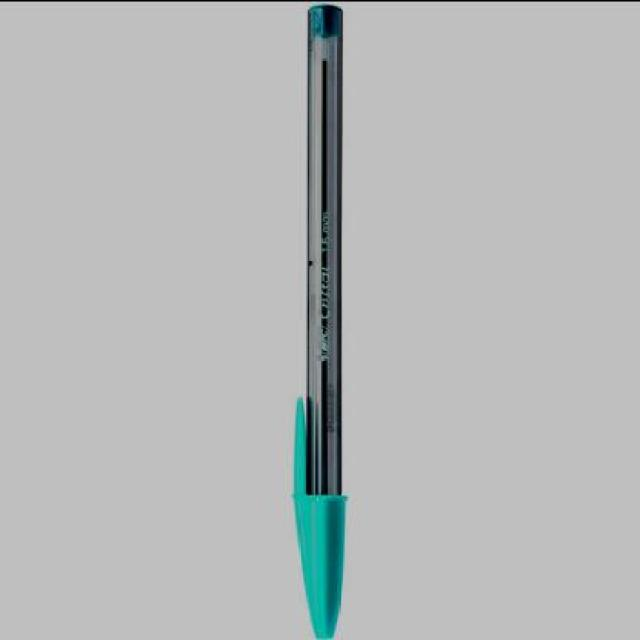pen: (297, 14, 347, 638)
